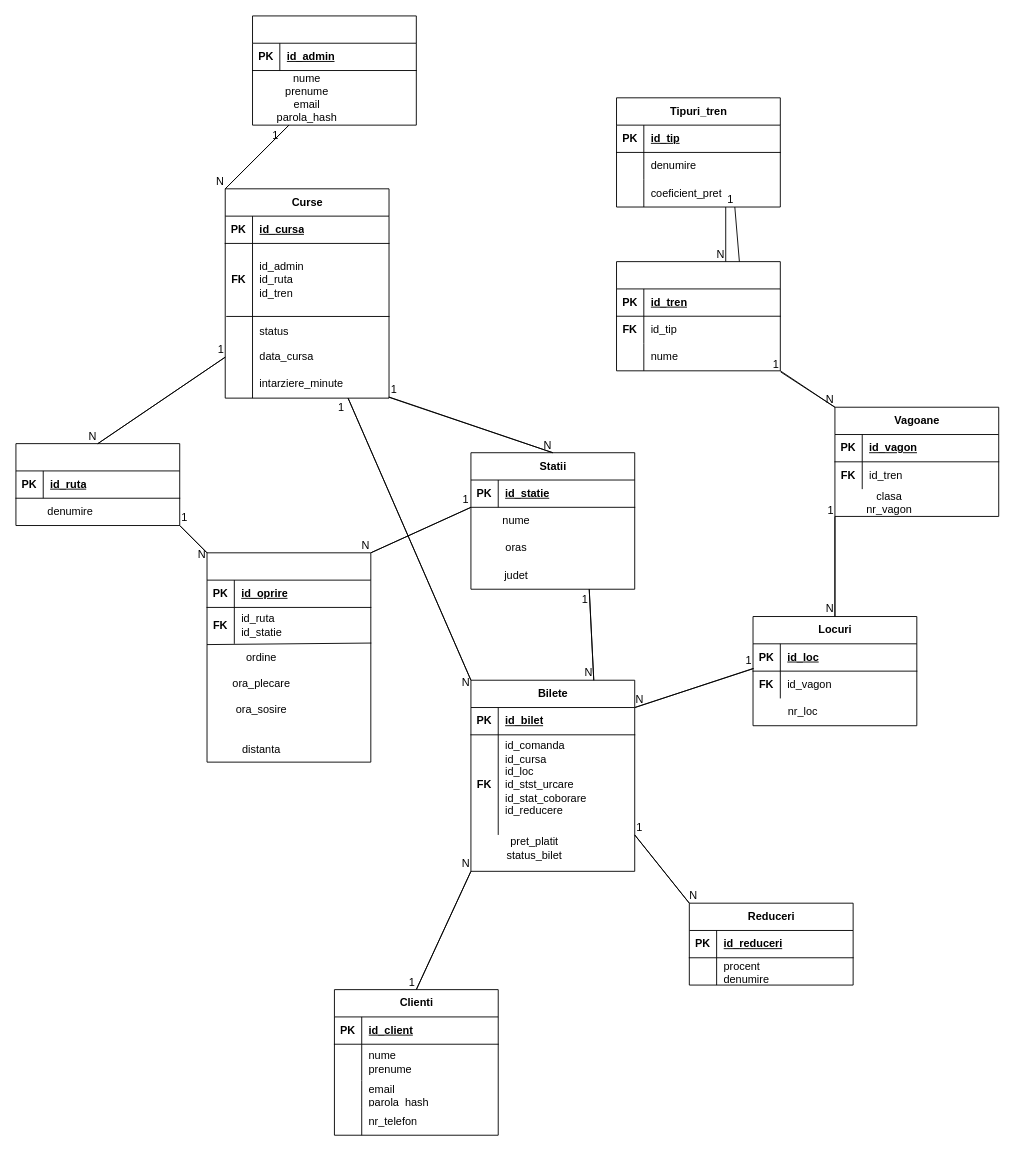
Some shapes in this 1015 by 1151 pixel diagram are drawn without their labels. The shapes that lost their labels are listed below. From the top down, each one's box as (x1, y1, x2, y2) in pixels, then its label:
(252, 15, 416, 125): Admini
(616, 261, 780, 371): Trenuri
(15, 443, 180, 526): Rute
(206, 552, 371, 762): Opriri
